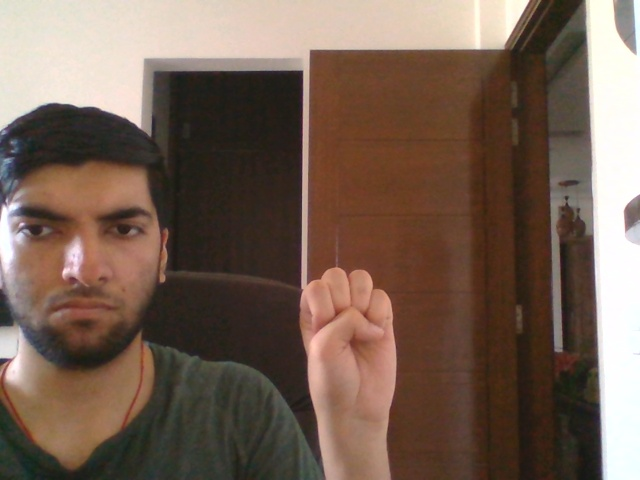LetterS: (298, 265, 400, 426)
